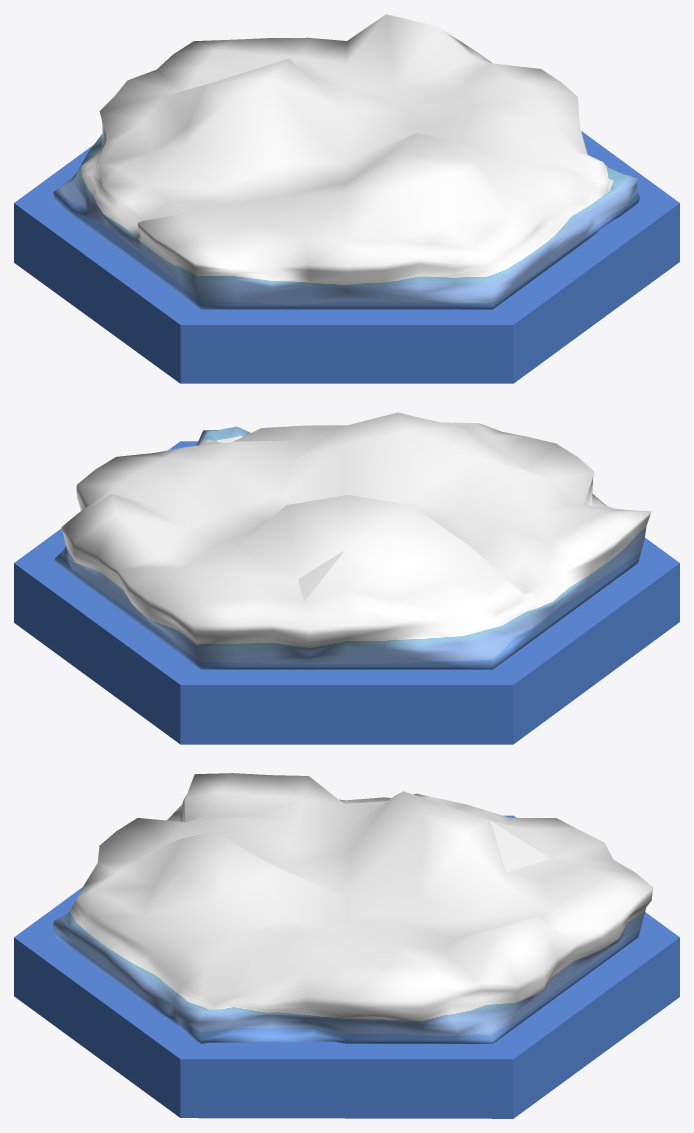
File: biome_arctic.fbx
3 renders of one model, top to bottom at view 1: azimuth 30°, elevation 25°; view 2: azimuth 150°, elevation 25°; view 3: azimuth 270°, elevation 25°, orthographic.
Parts seen in each view (by area): view 1: Hexagon.001, Hexagon; view 2: Hexagon.001, Hexagon; view 3: Hexagon.001, Hexagon.
Boxes of the visible parts, x1=… form: Hexagon.001: x1=53, y1=14, x2=639, y2=309; Hexagon: x1=14, y1=131, x2=679, y2=383; Hexagon.001: x1=54, y1=412, x2=651, y2=669; Hexagon: x1=14, y1=441, x2=679, y2=744; Hexagon.001: x1=52, y1=773, x2=653, y2=1043; Hexagon: x1=14, y1=815, x2=679, y2=1118.
Bounding box in the file's own units: 173 × 54.8 × 200.
